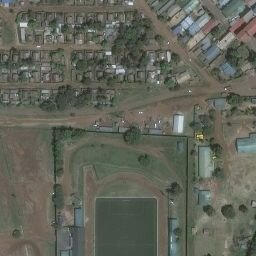tree: (124, 126, 140, 143), (221, 204, 236, 219), (226, 92, 241, 104), (138, 154, 151, 166), (203, 205, 216, 216), (171, 182, 183, 193), (76, 59, 87, 70), (211, 143, 222, 154), (163, 77, 175, 85), (12, 229, 22, 238), (212, 167, 222, 176), (202, 126, 212, 135), (198, 114, 208, 123), (189, 122, 200, 130), (61, 24, 70, 33), (171, 52, 179, 62), (238, 204, 248, 212), (173, 228, 182, 235), (155, 35, 162, 41), (101, 39, 107, 46)
